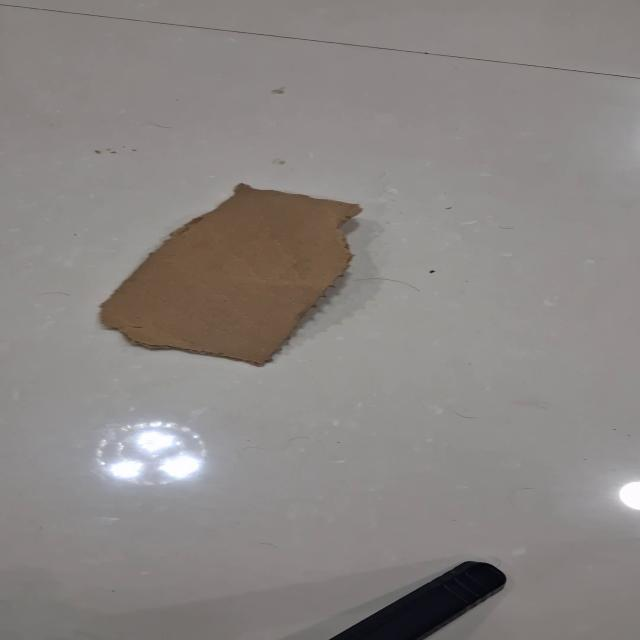paper: (97, 182, 363, 367)
